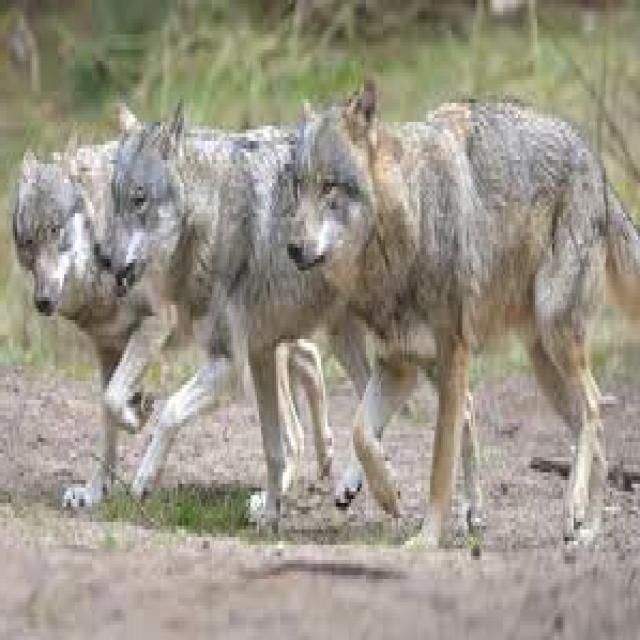wolf: (291, 80, 640, 541), (105, 107, 336, 522), (15, 141, 167, 503)
